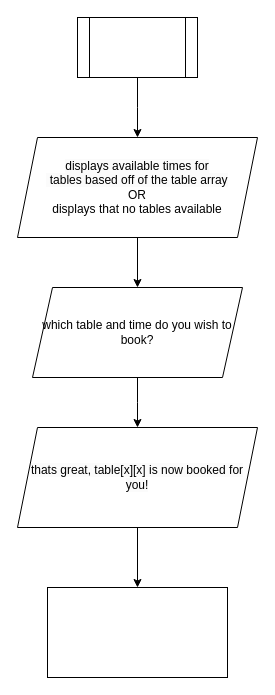
Image size: 275x695. Some labels were removed from this diagram. Here are the shapes that lost their labels. From the top down, the box of each, then its label:
(76, 16, 198, 78): findTable
(46, 586, 228, 678): change table[x][x] to the bookingID of the user
